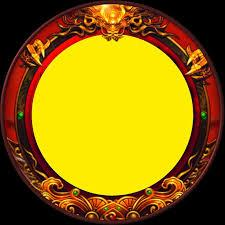yellow_circle: (28, 32, 199, 202)
